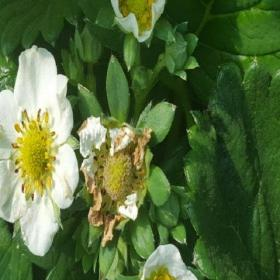Blossom Blight: (90, 132, 145, 217), (10, 106, 58, 203)
